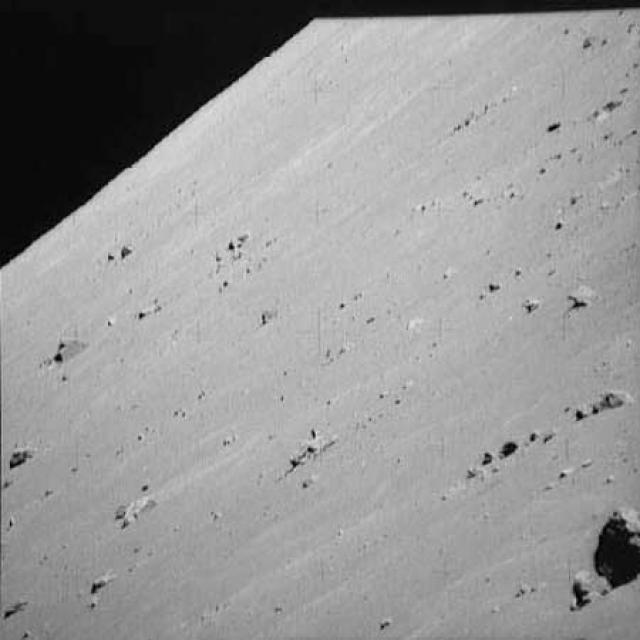rock: (588, 499, 638, 582), (562, 379, 631, 424), (281, 423, 345, 467), (42, 328, 90, 370), (565, 570, 618, 608), (110, 493, 163, 530), (565, 280, 600, 316), (3, 437, 40, 469)
